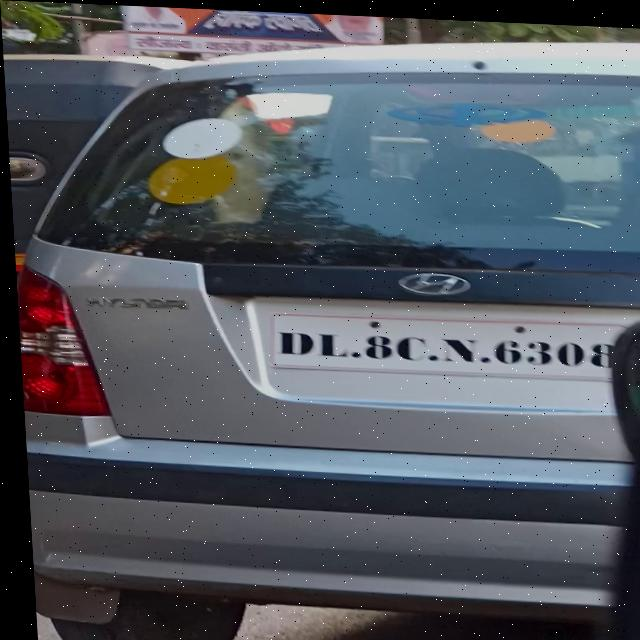plate: (258, 304, 626, 379)
